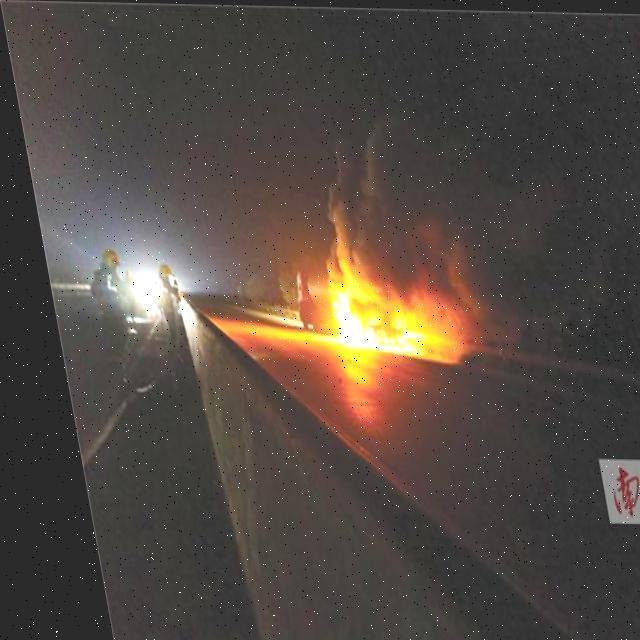Fire: (310, 264, 394, 342)
